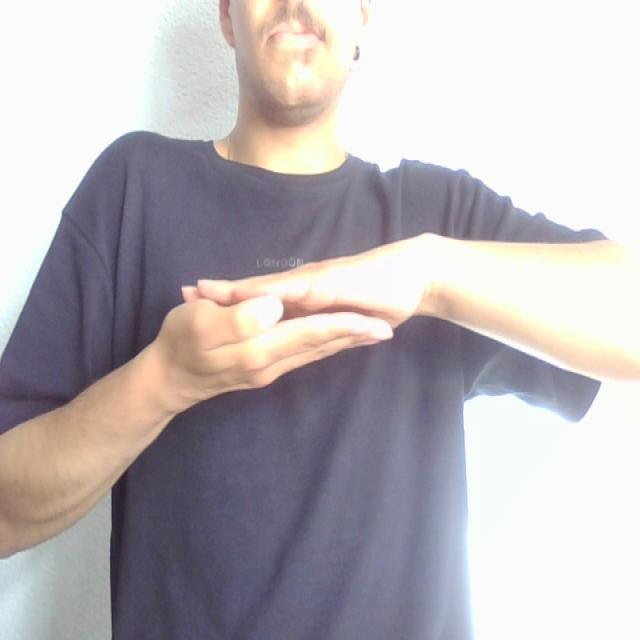Arkadas: (66, 233, 571, 402)
